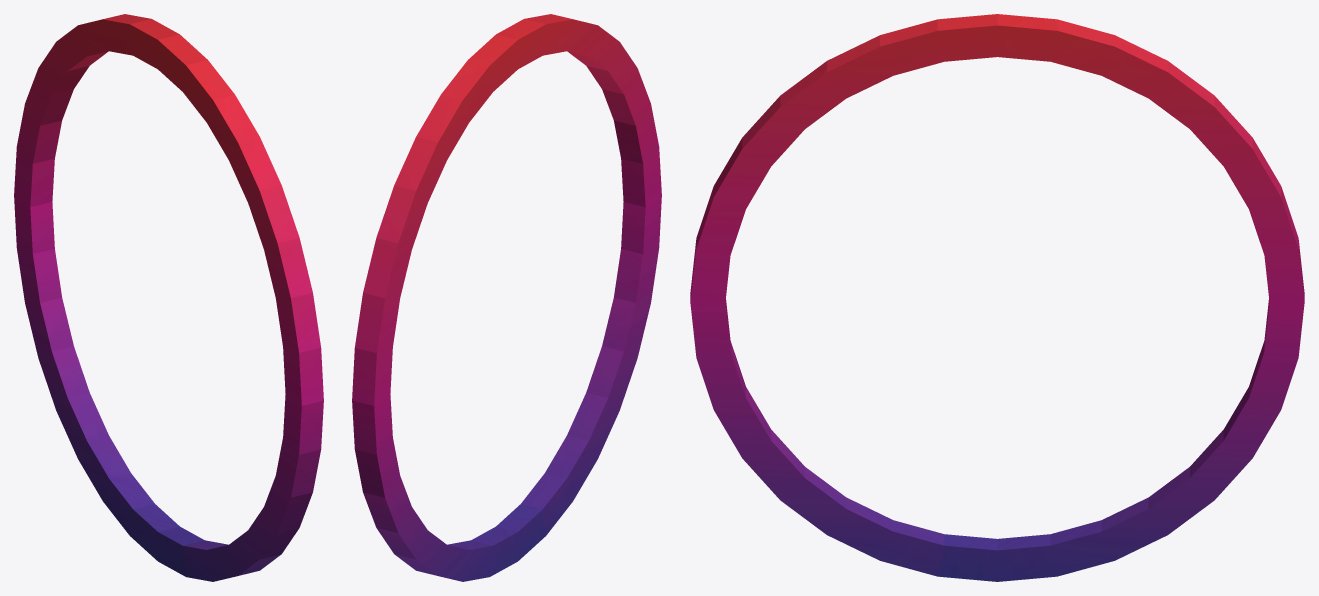
The model's file is Circle Boarder.obj.
3 views of the same model, side by side, from view 1: azimuth 30°, elevation 25°; view 2: azimuth 150°, elevation 25°; view 3: azimuth 270°, elevation 25° (orthographic). The views are drawn at different scales.
Visible parts, largest first — view 1: Cylinder.001; view 2: Cylinder.001; view 3: Cylinder.001.
Part boxes in pixels (left/top/right/bottom): Cylinder.001: left=14, top=14, right=323, bottom=581; Cylinder.001: left=352, top=14, right=661, bottom=581; Cylinder.001: left=690, top=14, right=1304, bottom=581.
Size of the model in its own units: 0.05 by 1.13 by 1.13.
Materials: 1 (1 with a texture image).
